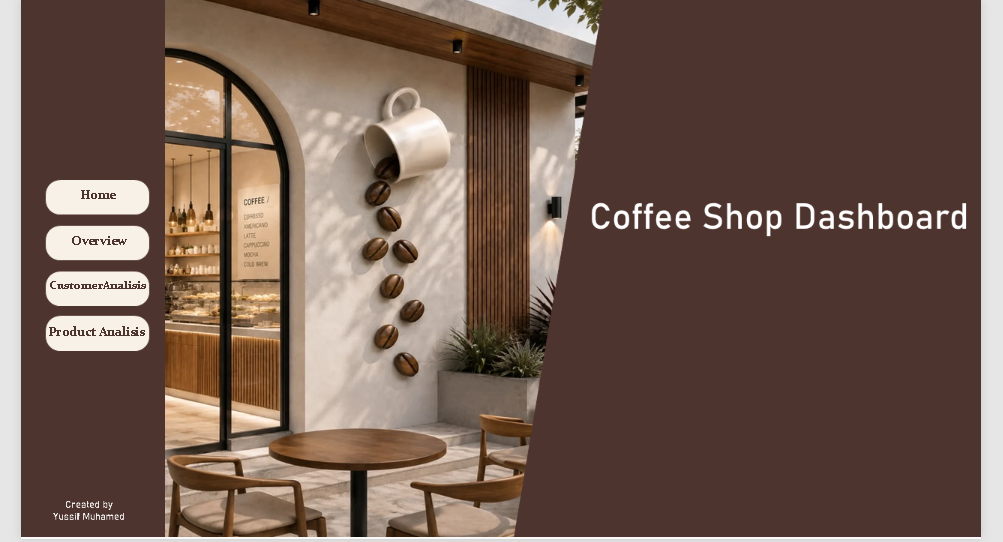

What the dashboard file says about the page in this screenshot:
{"tool":"powerbi","page":{"name":"HOME","canvas":[1920,1080],"ordinal":0},"visuals":[{"type":"actionButton","title":"Home","box":[70,375,168.8,58.8],"z":1000},{"type":"actionButton","title":"Overview","box":[65,467.5,180,60],"z":2000},{"type":"actionButton","title":"CustomerAnalisis","box":[50,557.5,207.5,58.8],"z":3000},{"type":"actionButton","title":"Product Analisis","box":[40,650,222.5,75],"z":4000}]}

Visuals, with their boxes on the page's 1920x1080 design canvas (x1, y1, x2, y2). These are canvas units, not pixel positions in the 1003x542 screenshot, which may show the page scaled, cropped or inside an application window:
"Home" actionButton: 70 375 239 434
"Overview" actionButton: 65 468 245 528
"CustomerAnalisis" actionButton: 50 558 258 616
"Product Analisis" actionButton: 40 650 262 725
